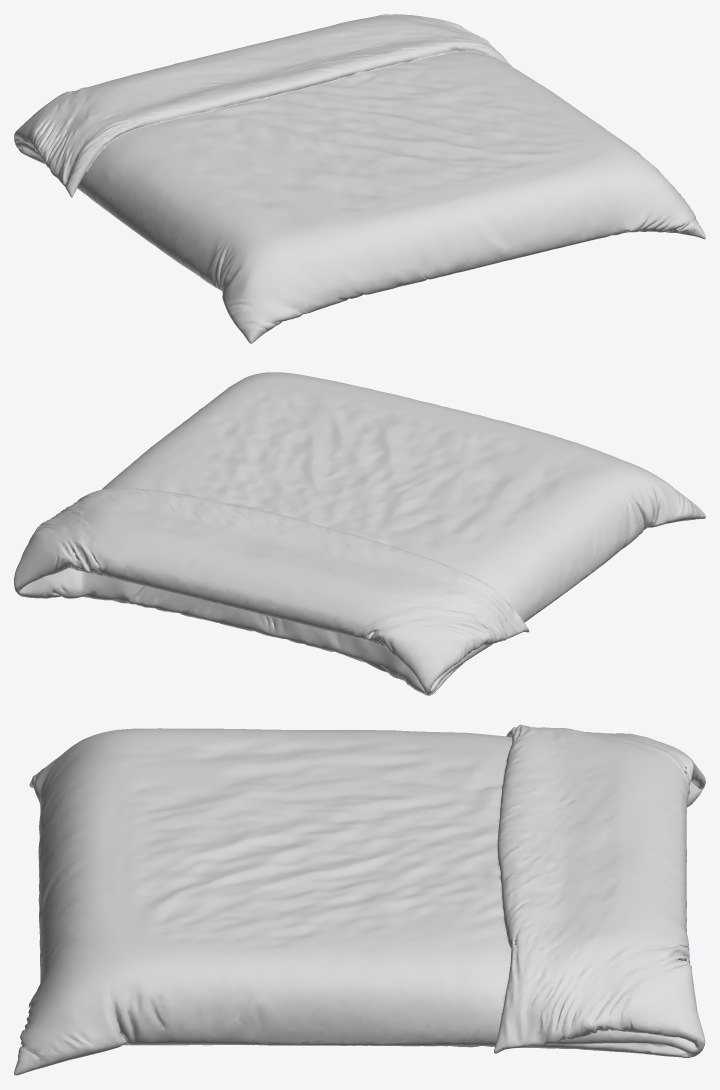
The model's file is duvet.glb.
The picture shows the model from 3 angles, top to bottom: view 1: azimuth 30°, elevation 25°; view 2: azimuth 150°, elevation 25°; view 3: azimuth 270°, elevation 25°; orthographic projection. The views are drawn at different scales.
Parts seen in each view (by area): view 1: geometry_0; view 2: geometry_0; view 3: geometry_0.
Part boxes in pixels (x1,y1,x2,y2): geometry_0: [14, 14, 705, 343]; geometry_0: [14, 372, 705, 695]; geometry_0: [14, 724, 705, 1075].
Bounding box in the file's own units: 0.9997 × 0.1649 × 1.
Materials: 1 (1 with a texture image).
